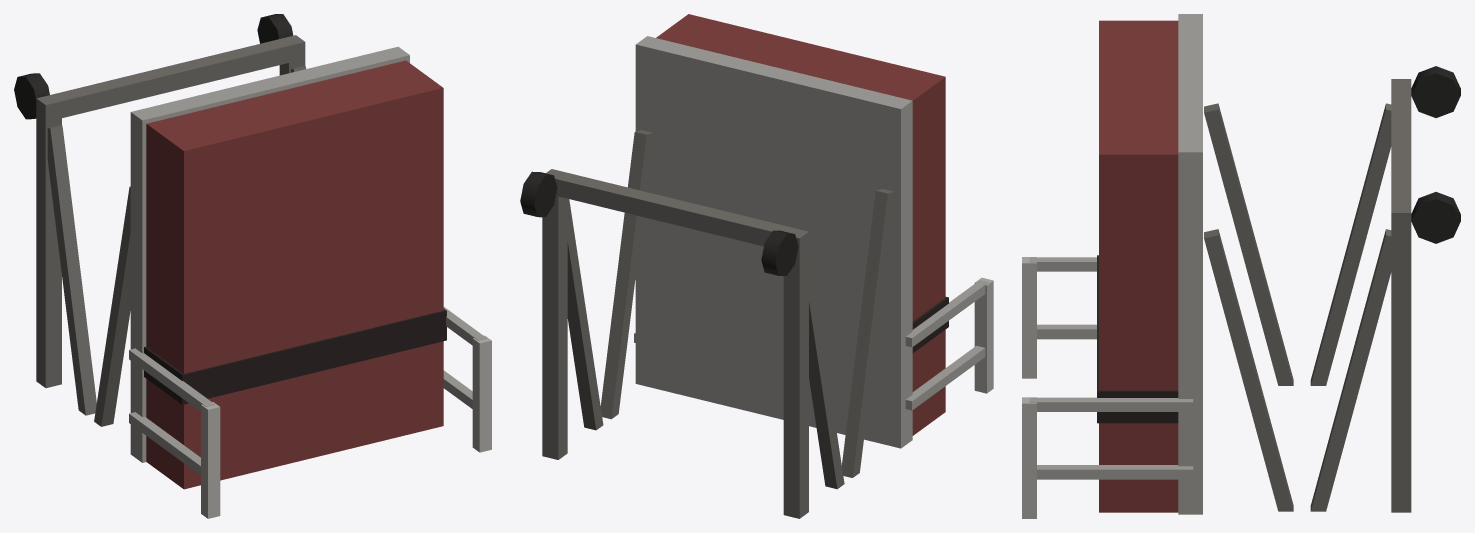
Rendered from section-0.obj.
3 renders of one model, left to right at view 1: azimuth 30°, elevation 25°; view 2: azimuth 150°, elevation 25°; view 3: azimuth 270°, elevation 25°, orthographic. The views are drawn at different scales.
Bounding box in the file's own units: 0.7 × 0.807 × 0.885.
1 material, 1 textured.
